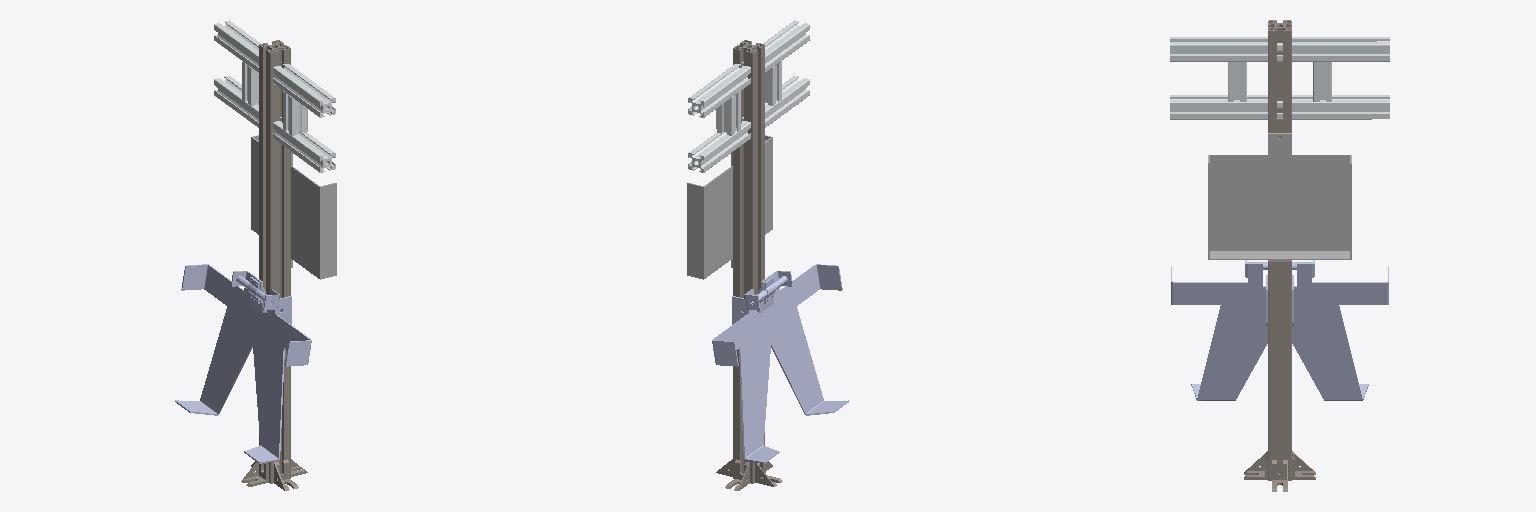
The robot description file, URDF, robot "espr":
<robot
  name="espr">
  <link
    name="torso">
    <inertial>
      <origin
        xyz="-0.000124342717756221 0.400487766454633 -0.000124342717754612"
        rpy="0 0 0" />
      <mass
        value="2.6839966623691" />
      <inertia
        ixx="0.215476685026517"
        ixy="-0.000126615345980391"
        ixz="4.14975715549634E-08"
        iyy="0.00132668550681761"
        iyz="-0.000126615345980623"
        izz="0.215476685026517" />
    </inertial>
    <visual>
      <origin
        xyz="0 0 0"
        rpy="0 0 0" />
      <geometry>
        <mesh
          filename="package://espr/meshes/torso.STL" />
      </geometry>
      <material
        name="">
        <color
          rgba="0.650980392156863 0.619607843137255 0.588235294117647 1" />
      </material>
    </visual>
    <collision>
      <origin
        xyz="0 0 0"
        rpy="0 0 0" />
      <geometry>
        <mesh
          filename="package://espr/meshes/torso.STL" />
      </geometry>
    </collision>
  </link>

  <link name="world"/>
  <joint name="world_to_torso" type="fixed">
    <origin xyz="0 0 0" rpy="0 0 0" />
    <parent link="world" />
    <child link="torso" />
  </joint>
  <link
    name="PC_Base">
    <inertial>
      <origin
        xyz="-0.047995 -0.034202 -0.7282"
        rpy="0 0 0" />
      <mass
        value="0.30233" />
      <inertia
        ixx="0.005103"
        ixy="0.0004073"
        ixz="-0.00044025"
        iyy="0.0027955"
        iyz="-7.5418E-05"
        izz="0.0027419" />
    </inertial>
    <visual>
      <origin
        xyz="0 0 0"
        rpy="0 0 1.57" />
      <geometry>
        <mesh
          filename="package://espr/meshes/PC_Base.STL" />
      </geometry>
      <material
        name="">
        <color
          rgba="0.79216 0.81961 0.93333 1" />
      </material>
    </visual>
    <collision>
      <origin
        xyz="0 0 0"
        rpy="0 0 1.57" />
      <geometry>
        <mesh
          filename="package://espr/meshes/PC_Base.STL" />
      </geometry>
    </collision>
  </link>
  <joint
    name="PC_Base_torso_joint"
    type="fixed">
    <origin
       xyz="0 0 0"
        rpy="0 0 0" />
    <parent
      link="torso" />
    <child
      link="PC_Base" />
    <axis
      xyz="0 0 1" />
  </joint>

  <link
    name="router">
    <inertial>
      <origin
        xyz="0.1305 0.0071427 -0.10701"
        rpy="0 0 0" />
      <mass
        value="0.22663" />
      <inertia
        ixx="0.00094829"
        ixy="-3.2425E-10"
        ixz="-1.2029E-09"
        iyy="0.0026031"
        iyz="-3.6199E-05"
        izz="0.0017029" />
    </inertial>
    <visual>
      <origin
        xyz="0 -0.1305 0"
        rpy="3.14 0 1.57" />
      <geometry>
        <mesh
          filename="package://espr/meshes/router.STL" />
      </geometry>
      <material
        name="">
        <color
          rgba="0.75294 0.75294 0.75294 1" />
      </material>
    </visual>
    <collision>
      <origin
        xyz="0 -0.1305 0"
        rpy="3.14 0 1.57" />
      <geometry>
        <mesh
          filename="package://espr/meshes/router.STL" />
      </geometry>
    </collision>
  </link>

  <joint
    name="router_to_torso_joint"
    type="fixed">
    <origin
      xyz="0.02305 0 0.44504"
      rpy="0 0 0" />
    <parent
      link="torso" />
    <child
      link="router" />
    <axis
      xyz="0 0 -1" />
  </joint>
  <link
    name="left_shoulder">
    <inertial>
      <origin
        xyz="0.0575 -2.6795E-06 0.09625"
        rpy="0 0 0" />
      <mass
        value="0.78738" />
      <inertia
        ixx="0.0023474"
        ixy="-4.2942E-18"
        ixz="2.2768E-18"
        iyy="0.0045718"
        iyz="-1.7258E-18"
        izz="0.0024042" />
    </inertial>
    <visual>
      <origin
        xyz="0 0 0"
        rpy="1.57 -1.57 0" />
      <geometry>
        <mesh
          filename="package://espr/meshes/left_shoulder.STL" />
      </geometry>
      <material
        name="">
        <color
          rgba="0.89804 0.91765 0.92941 1" />
      </material>
    </visual>
    <collision>
      <origin
        xyz="0 0 0"
        rpy="1.57 -1.57 0" />
      <geometry>
        <mesh
          filename="package://espr/meshes/left_shoulder.STL" />
      </geometry>
    </collision>
  </link>
  <joint
    name="left_shoulder_to_torso_joint"
    type="fixed">
    <origin
      xyz="0 0 0.7425"
      rpy="0 0 0" />
    <parent
      link="torso" />
    <child
      link="left_shoulder" />
    <axis
      xyz="0 0 0" />
  </joint>
  <link
    name="right_shoulder">
    <inertial>
      <origin
        xyz="-0.0575 -2.6795E-06 0.09625"
        rpy="0 0 0" />
      <mass
        value="0.78738" />
      <inertia
        ixx="0.0023474"
        ixy="3.0862E-19"
        ixz="1.8431E-18"
        iyy="0.0045718"
        iyz="-4.9816E-19"
        izz="0.0024042" />
    </inertial>
    <visual>
      <origin
        xyz="0 0 0"
        rpy="-1.57 -1.57 0" />
      <geometry>
        <mesh
          filename="package://espr/meshes/right_shoulder.STL" />
      </geometry>
      <material
        name="">
        <color
          rgba="0.89804 0.91765 0.92941 1" />
      </material>
    </visual>
    <collision>
      <origin
        xyz="0 0 0"
        rpy="-1.57 -1.57 0" />
      <geometry>
        <mesh
          filename="package://espr/meshes/right_shoulder.STL" />
      </geometry>
    </collision>
  </link>
  <joint
    name="right_shoulder_to_torso_joint"
    type="fixed">
    <origin
      xyz="0 0 0.8575"
      rpy="0 0 0" />
    <parent
      link="torso" />
    <child
      link="right_shoulder" />
    <axis
      xyz="0 0 0" />
  </joint>
</robot>

--- Facts derived from the render (not from the file) ---
Views: 3 orthographic renders of the robot side by side, from view 1: azimuth 30°, elevation 25°; view 2: azimuth 150°, elevation 25°; view 3: azimuth 270°, elevation 25°.
Model espr with 6 links and 5 joints (5 fixed), rooted at world, posed all joints at 0.
Visible links, largest first — view 1: PC_Base, torso, router, left_shoulder, right_shoulder; view 2: PC_Base, torso, router, right_shoulder, left_shoulder; view 3: router, PC_Base, torso, left_shoulder, right_shoulder.
Link boxes in pixels (x1=…): PC_Base: x1=175, y1=264, x2=311, y2=463; torso: x1=241, y1=40, x2=307, y2=490; router: x1=251, y1=135, x2=336, y2=279; left_shoulder: x1=273, y1=62, x2=335, y2=172; right_shoulder: x1=214, y1=20, x2=260, y2=127; PC_Base: x1=712, y1=264, x2=848, y2=463; torso: x1=716, y1=40, x2=782, y2=490; router: x1=687, y1=135, x2=772, y2=279; right_shoulder: x1=688, y1=62, x2=750, y2=172; left_shoulder: x1=763, y1=20, x2=809, y2=127; router: x1=1208, y1=133, x2=1351, y2=261; PC_Base: x1=1171, y1=260, x2=1388, y2=400; torso: x1=1244, y1=20, x2=1315, y2=491; left_shoulder: x1=1170, y1=37, x2=1279, y2=119; right_shoulder: x1=1280, y1=37, x2=1389, y2=119.
Bounding box of the posed robot: 0.192 × 0.4 × 0.9 m (x, y, z).
Meshes: 5 distinct files referenced, 5 mesh visuals loaded (5 binary STL).